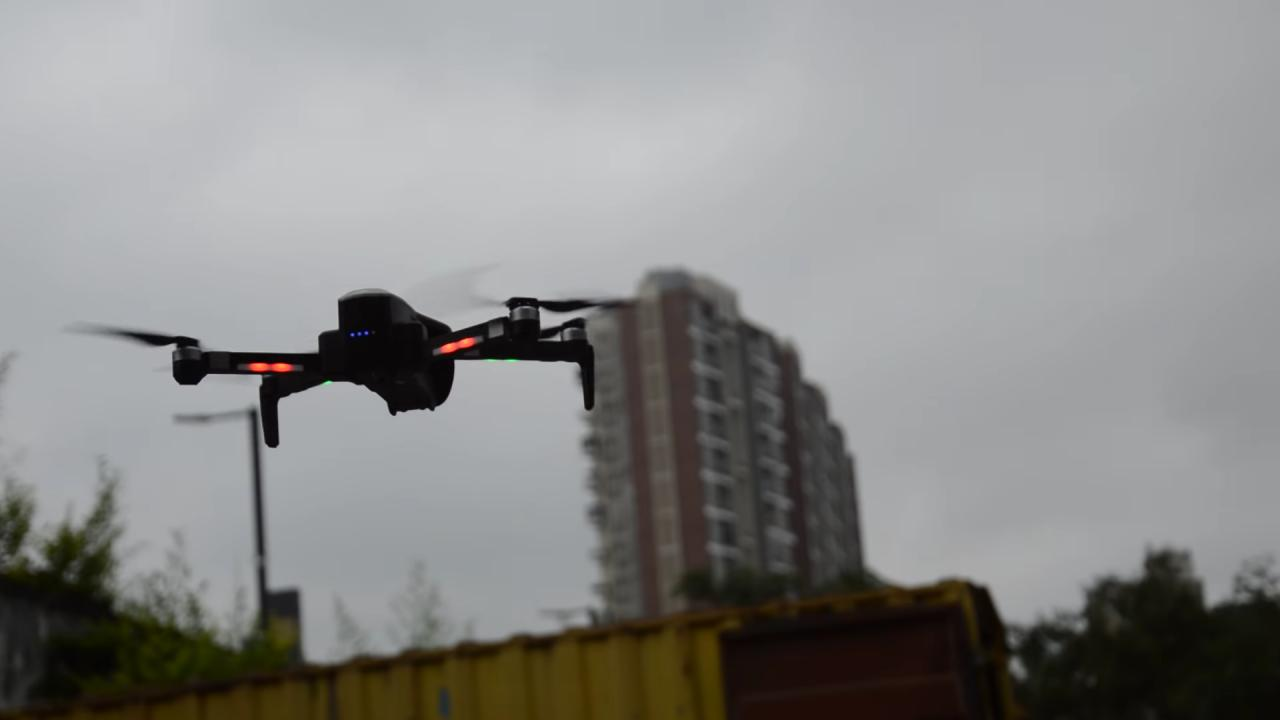Drone: (46, 248, 702, 464)
